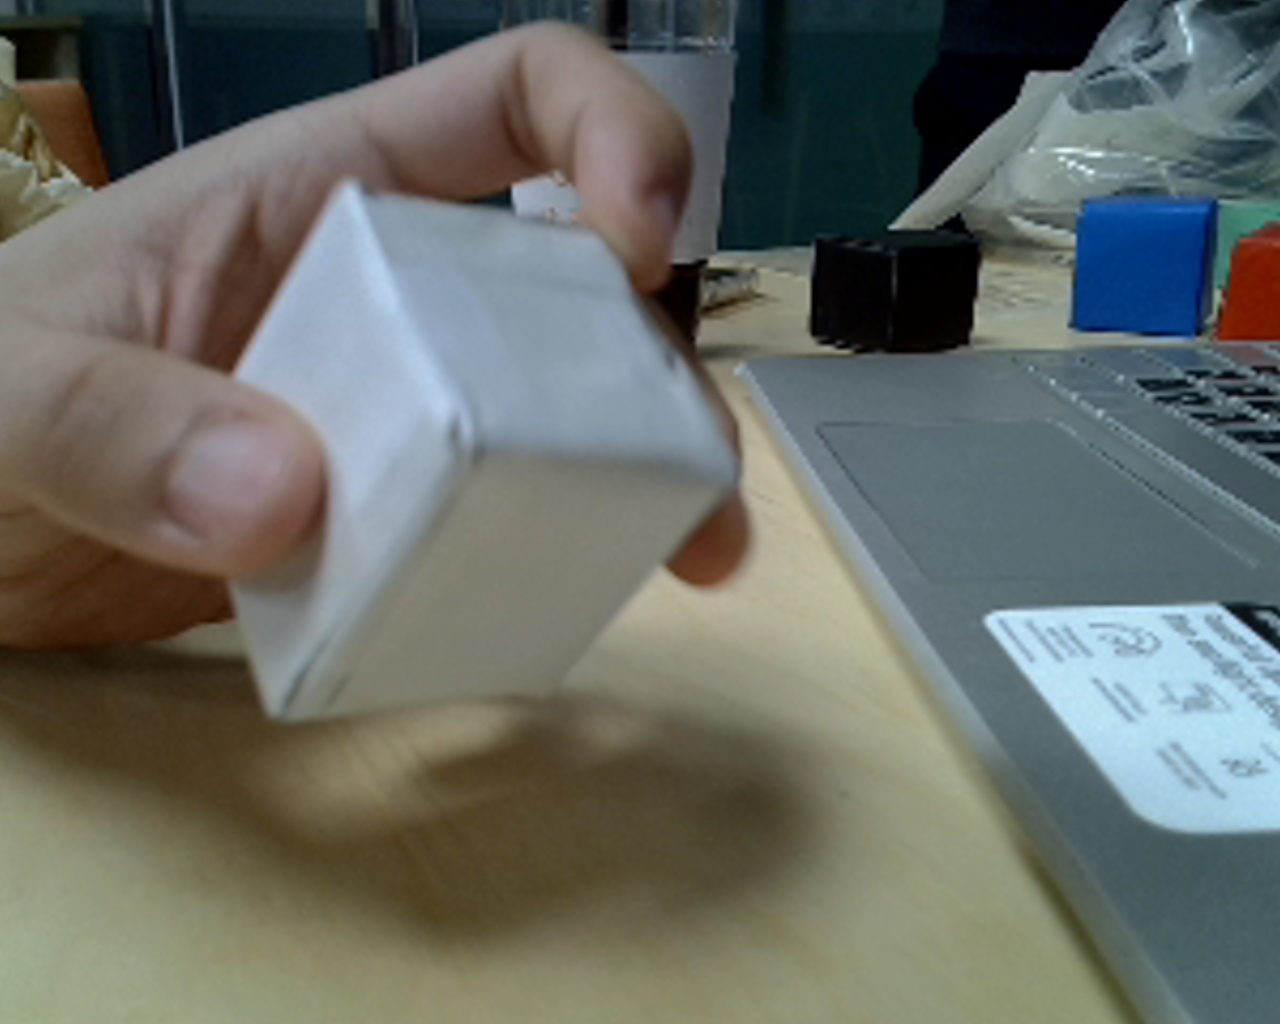whitebox: (170, 144, 776, 742)
